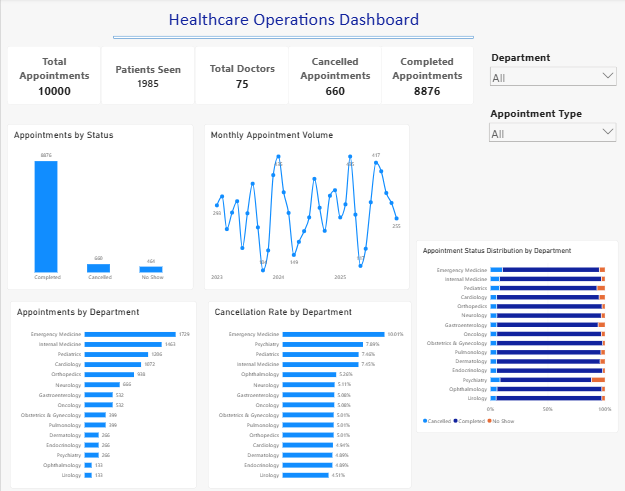

This screenshot's page, from the dashboard's own definition file:
{"tool":"powerbi","page":{"name":"Page 1","canvas":[1600,1280],"ordinal":0},"visuals":[{"type":"cardVisual","fields":{"Data":["public appointments.Total Appointments"]},"box":[15.5,124,240,150],"z":1},{"type":"cardVisual","fields":{"Data":["public doctors.Total Doctors"]},"box":[495.5,124,240,150],"z":3},{"type":"cardVisual","fields":{"Data":["Measures (2).Completed Appointments"]},"box":[970.7,124,240,150],"z":4},{"type":"cardVisual","fields":{"Data":["Measures (2).Cancelled Appointments"]},"box":[735.5,124,240,150],"z":5},{"type":"clusteredColumnChart","title":"Appointments by Status","fields":{"Category":["public appointments.status"],"Y":["Measures (2).Total Appointments"]},"box":[15.5,323.2,477.3,425],"z":6},{"type":"lineChart","title":"Monthly Appointment Volume","fields":{"Category":["public appointments.appointment_date.Variation.Date Hierarchy.Year","public appointments.appointment_date.Variation.Date Hierarchy.Month"],"Y":["Measures (2).Total Appointments"]},"box":[519.5,323.2,526,424.8],"z":11},{"type":"slicer","fields":{"Values":["public departments.department_name"]},"box":[1246.7,133.6,333.6,120],"z":12},{"type":"cardVisual","fields":{"Data":["Measures (2).Patients Seen"]},"box":[255.5,121.6,240,150],"z":13},{"type":"slicer","fields":{"Values":["public appointments.appointment_type"]},"box":[1244.3,275.2,336,93.6],"z":14},{"type":"clusteredBarChart","title":"Appointments by Department","fields":{"Category":["public departments.department_name"],"Y":["Measures (2).Total Appointments"]},"box":[23,775.4,477.6,480],"z":15},{"type":"clusteredBarChart","title":"Cancellation Rate by Department","fields":{"Category":["public departments.department_name"],"Y":["Measures (2).Cancellation rate"]},"box":[529.4,775.4,520.8,480],"z":16},{"type":"hundredPercentStackedBarChart","title":"Appointment Status Distribution by Department","fields":{"Category":["public departments.department_name"],"Series":["public appointments.status"],"Y":["Measures (2).Total Appointments"]},"box":[1061.9,618.4,518.4,494.4],"z":17},{"type":"textbox","box":[1062,1112,518,166],"z":18},{"type":"textbox","box":[1046,323,165,295],"z":19},{"type":"shape","title":"Healthcare Operations Dashboard","box":[286.7,23,924.2,81.9],"z":20}]}

Visuals, with their boxes in screenshot pixels (x1, y1, x2, y2), scaled from the page's 1600x1280 canvas onto the 625x491 screenshot:
cardVisual - public appointments.Total Appointments: {"left": 6, "top": 48, "right": 100, "bottom": 105}
cardVisual - public doctors.Total Doctors: {"left": 194, "top": 48, "right": 287, "bottom": 105}
cardVisual - Measures (2).Completed Appointments: {"left": 379, "top": 48, "right": 473, "bottom": 105}
cardVisual - Measures (2).Cancelled Appointments: {"left": 287, "top": 48, "right": 381, "bottom": 105}
"Appointments by Status" clusteredColumnChart: {"left": 6, "top": 124, "right": 192, "bottom": 287}
"Monthly Appointment Volume" lineChart: {"left": 203, "top": 124, "right": 408, "bottom": 287}
slicer - public departments.department_name: {"left": 487, "top": 51, "right": 617, "bottom": 97}
cardVisual - Measures (2).Patients Seen: {"left": 100, "top": 47, "right": 194, "bottom": 104}
slicer - public appointments.appointment_type: {"left": 486, "top": 106, "right": 617, "bottom": 141}
"Appointments by Department" clusteredBarChart: {"left": 9, "top": 297, "right": 196, "bottom": 482}
"Cancellation Rate by Department" clusteredBarChart: {"left": 207, "top": 297, "right": 410, "bottom": 482}
"Appointment Status Distribution by Department" hundredPercentStackedBarChart: {"left": 415, "top": 237, "right": 617, "bottom": 427}
textbox: {"left": 415, "top": 427, "right": 617, "bottom": 490}
textbox: {"left": 409, "top": 124, "right": 473, "bottom": 237}
"Healthcare Operations Dashboard" shape: {"left": 112, "top": 9, "right": 473, "bottom": 40}
